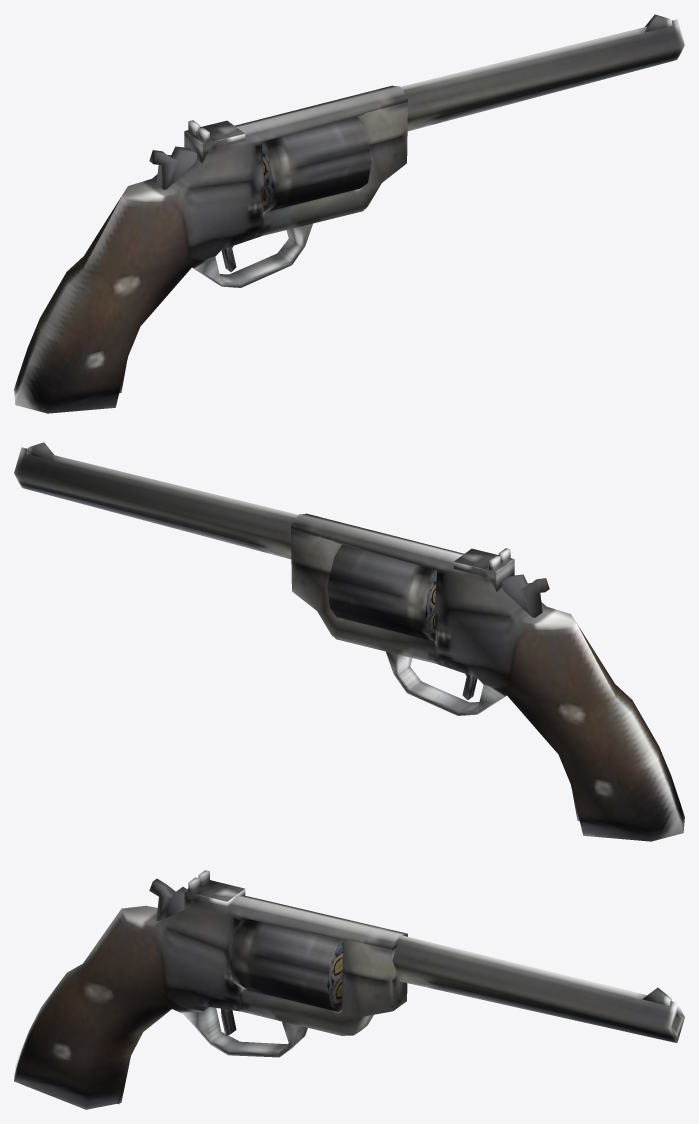
Rendered from TOZ-36.fbx.
3 views of the same model, one above another, from view 1: azimuth 30°, elevation 25°; view 2: azimuth 150°, elevation 25°; view 3: azimuth 330°, elevation 25° (orthographic).
Visible parts, largest first — view 1: Cube, Cylinder, hammer; view 2: Cube, Cylinder, hammer; view 3: Cube, Cylinder, hammer.
Boxes of the visible parts, bbox=[...] form: Cube: bbox=[14, 14, 684, 413]; Cylinder: bbox=[262, 116, 371, 211]; hammer: bbox=[149, 146, 196, 189]; Cube: bbox=[14, 442, 684, 841]; Cylinder: bbox=[327, 544, 436, 640]; hammer: bbox=[502, 574, 549, 617]; Cube: bbox=[14, 870, 684, 1109]; Cylinder: bbox=[229, 918, 343, 1011]; hammer: bbox=[149, 878, 186, 921].
Size of the model in its own units: 644 by 229 by 75.24.
